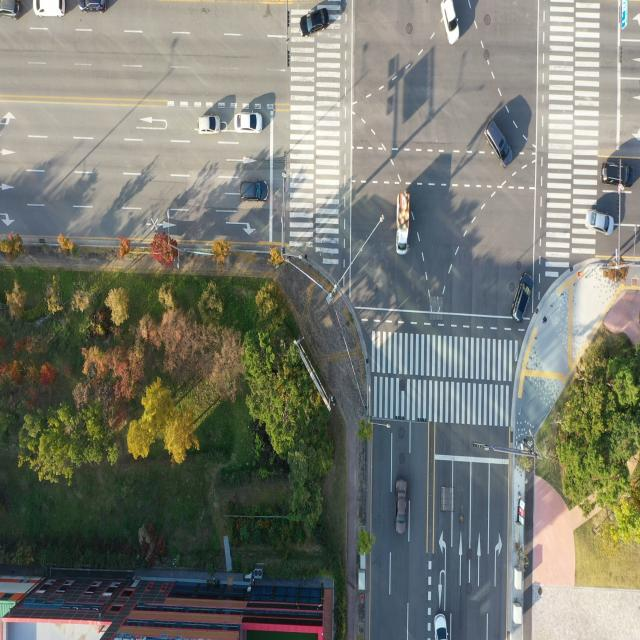car: (482, 124, 512, 168), (511, 272, 535, 324), (393, 476, 408, 536), (301, 6, 330, 37), (440, 0, 460, 44), (602, 164, 634, 190), (588, 210, 614, 235), (241, 179, 268, 203), (32, 0, 67, 17), (237, 112, 263, 134), (198, 114, 222, 134), (0, 0, 21, 18), (81, 0, 109, 13), (436, 615, 450, 640)
small_truck: (396, 193, 413, 256)
